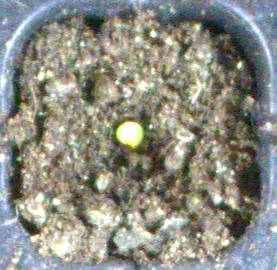chilli seed: (115, 120, 143, 147)
